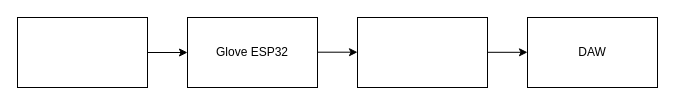
Image size: 675x105. Some labels were removed from this diagram. The shapes that lost their labels are listed below. From the top down, each one's centre as x and y in pixels, then its label:
At (x=82, y=52): "IMU (ax, ay, az, gx, gy, gz)".
At (x=422, y=52): "Pedal ESP32".
